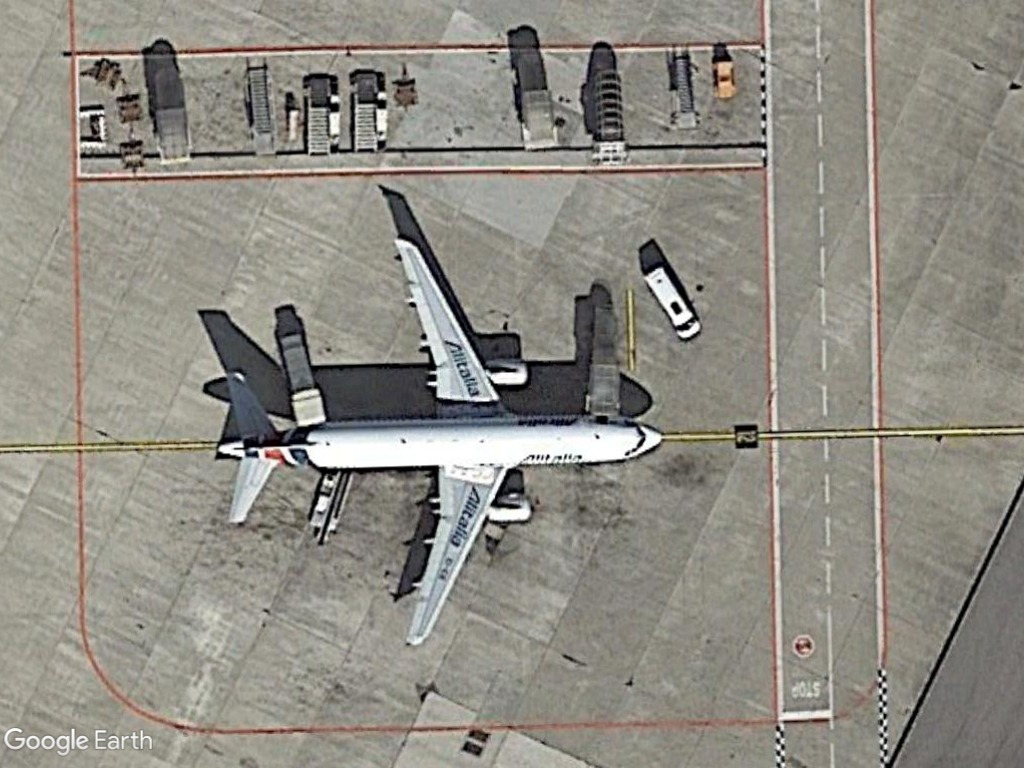airliner: (213, 229, 668, 655)
stairtruck: (345, 68, 393, 156), (240, 61, 283, 159), (299, 74, 343, 161)
van: (640, 264, 704, 344)
